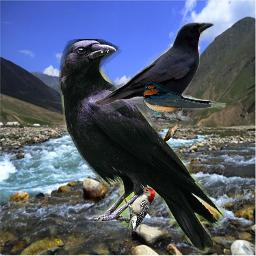Crow: (59, 39, 225, 253), (94, 22, 214, 121)
Cuckoo: (162, 124, 179, 144)
Swallow: (141, 81, 226, 115)
Woodpecker: (120, 182, 157, 236)
